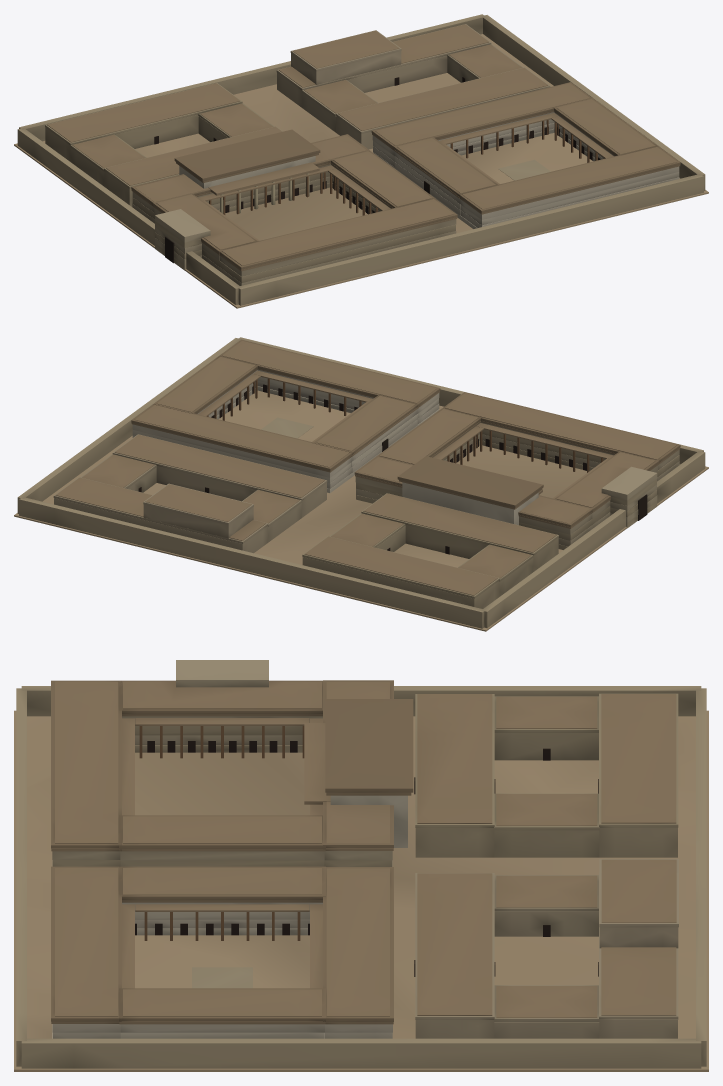
File: sirkap-palace.glb
The picture shows the model from 3 angles, top to bottom: view 1: azimuth 30°, elevation 25°; view 2: azimuth 150°, elevation 25°; view 3: azimuth 270°, elevation 25°; orthographic projection. The views are drawn at different scales.
Visible parts, largest first — view 1: p1_courts, p0_enclosure, p2_audience hall; view 2: p1_courts, p0_enclosure, p2_audience hall; view 3: p1_courts, p0_enclosure, p2_audience hall.
Boxes of the visible parts, x1,y1,x2,y2 form: p1_courts: (45,24,680,285); p0_enclosure: (14,14,708,308); p2_audience hall: (155,129,320,270); p1_courts: (53,339,680,608); p0_enclosure: (14,337,708,631); p2_audience hall: (397,456,657,528); p1_courts: (51,680,678,1038); p0_enclosure: (14,686,708,1071); p2_audience hall: (176,660,413,847).
Bounding box in the file's own units: 110 × 9.14 × 90.
